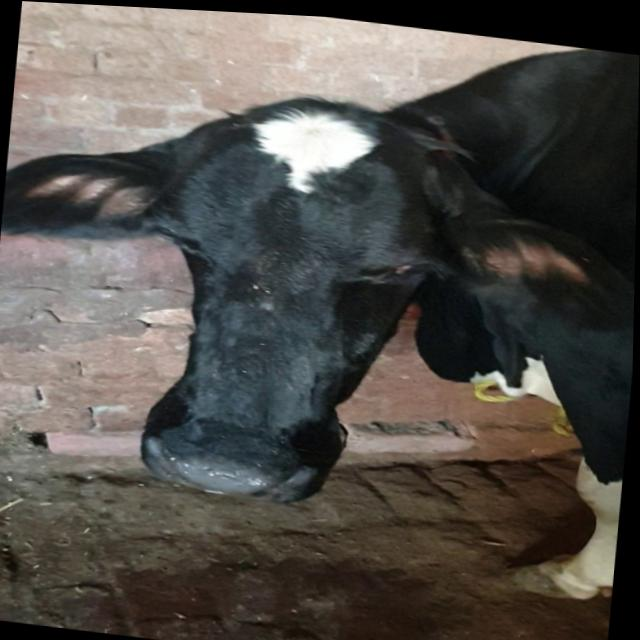cowFace: (110, 72, 479, 522)
